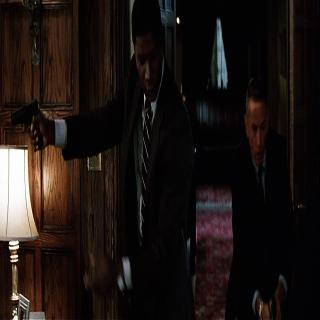gun: (8, 97, 48, 154)
